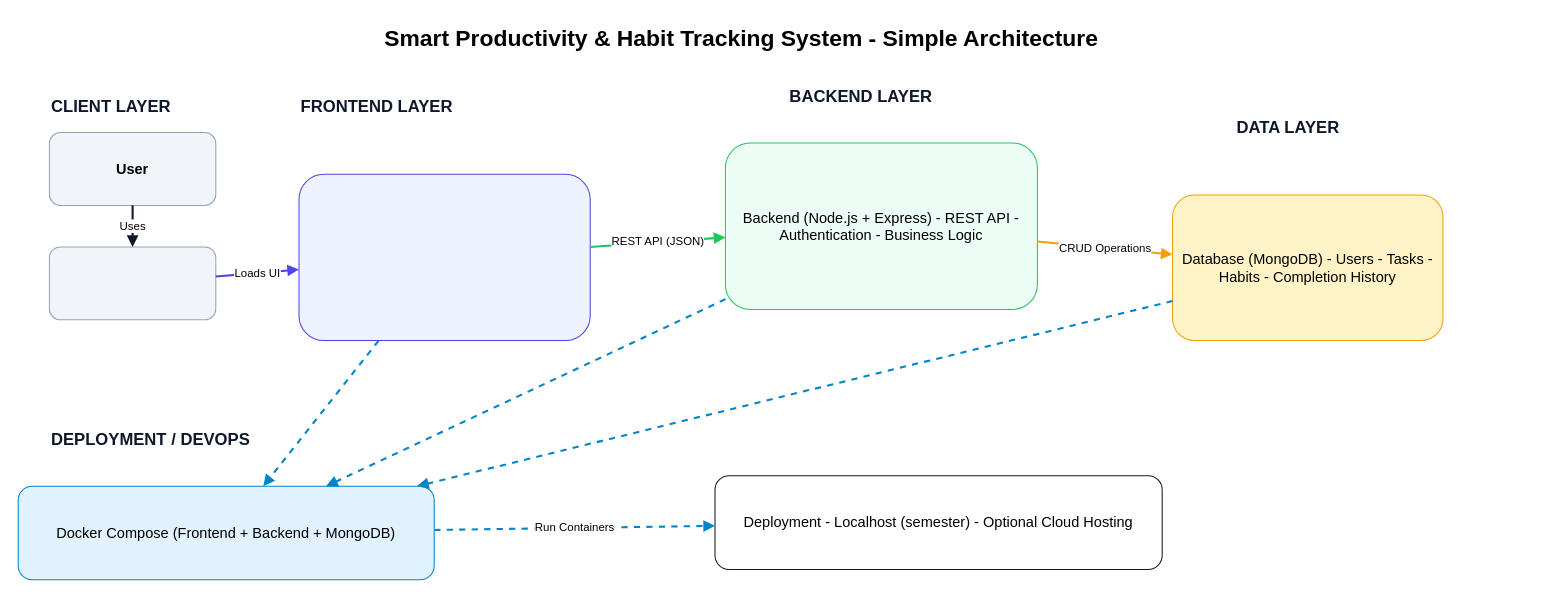
Image size: 1565x598. Some labels were removed from this diagram. Here are the shapes that lost their labels. From the top down, the box of each, then its label:
(298, 173, 590, 341): Frontend (React) - Login/Signup UI - Task UI - Habit UI - Analytics UI
(48, 246, 216, 320): Web Browser
